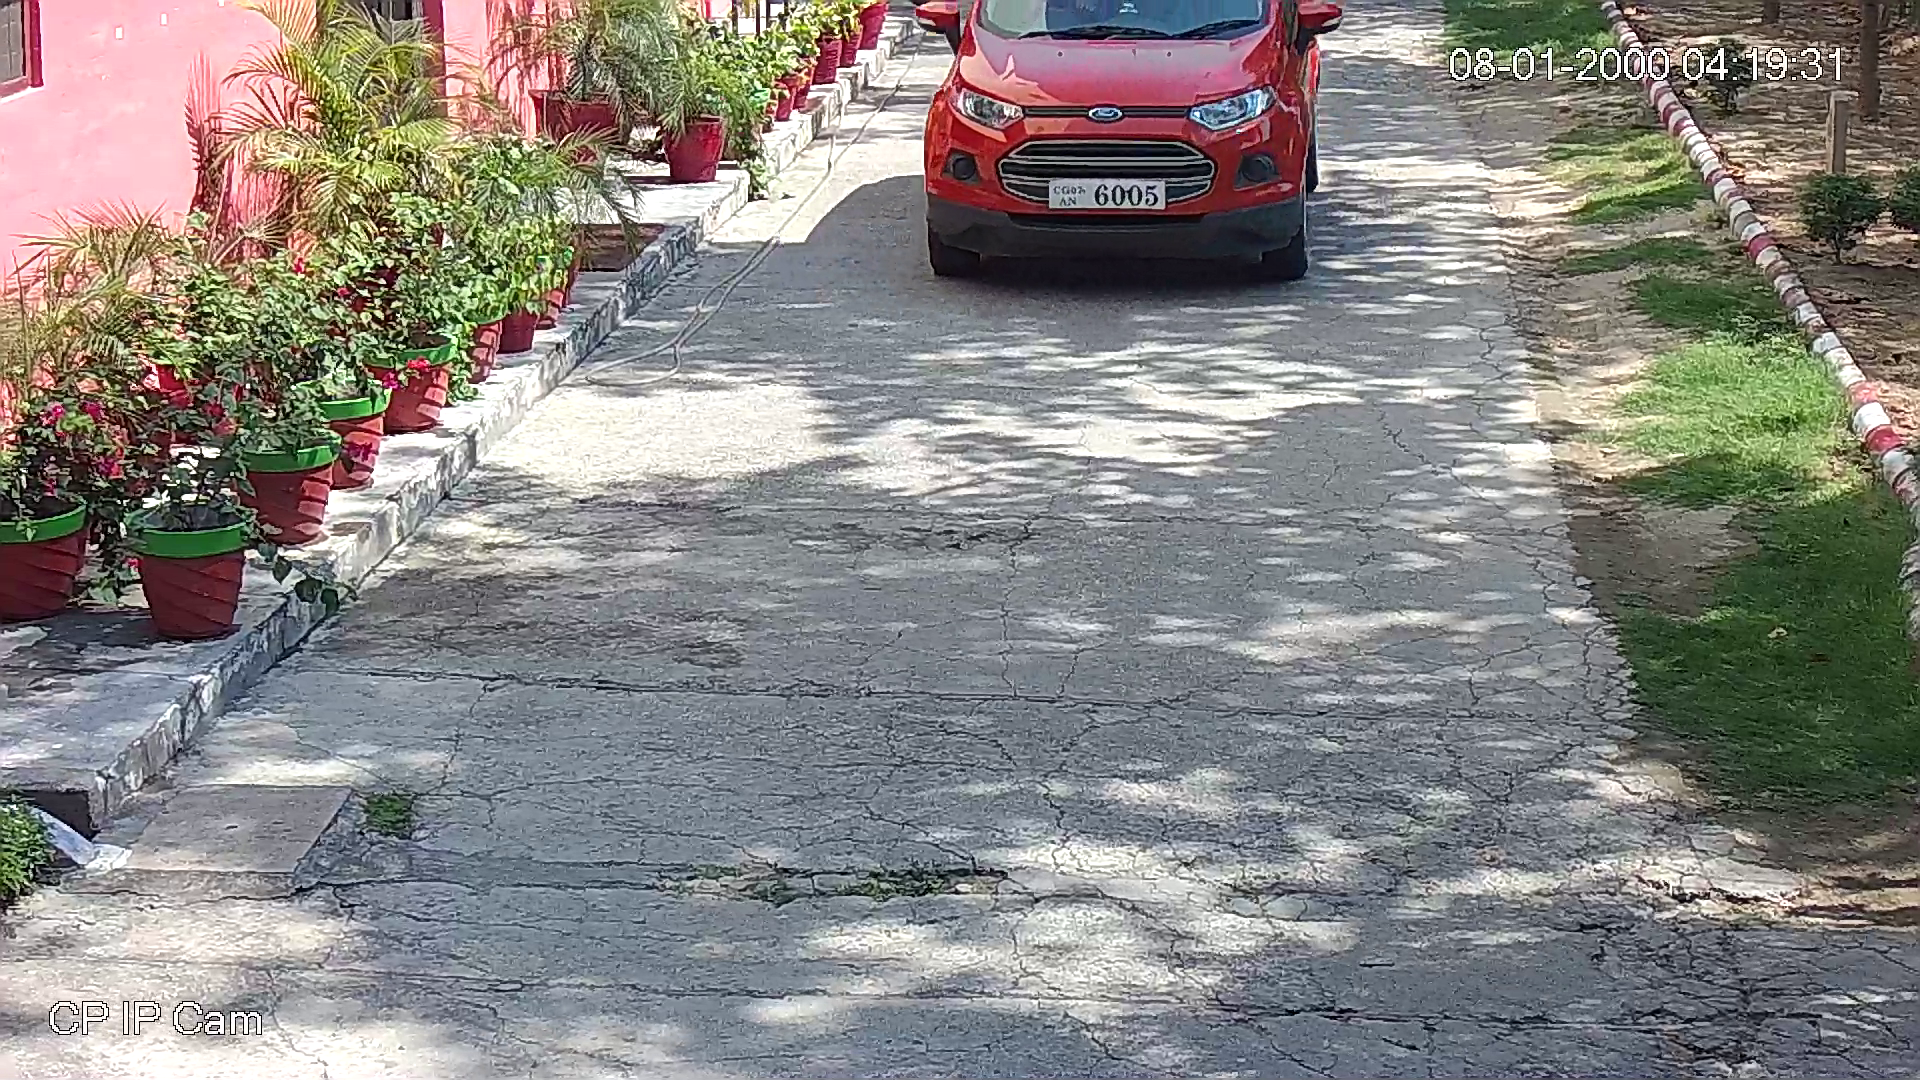plate: (1044, 171, 1170, 215)
